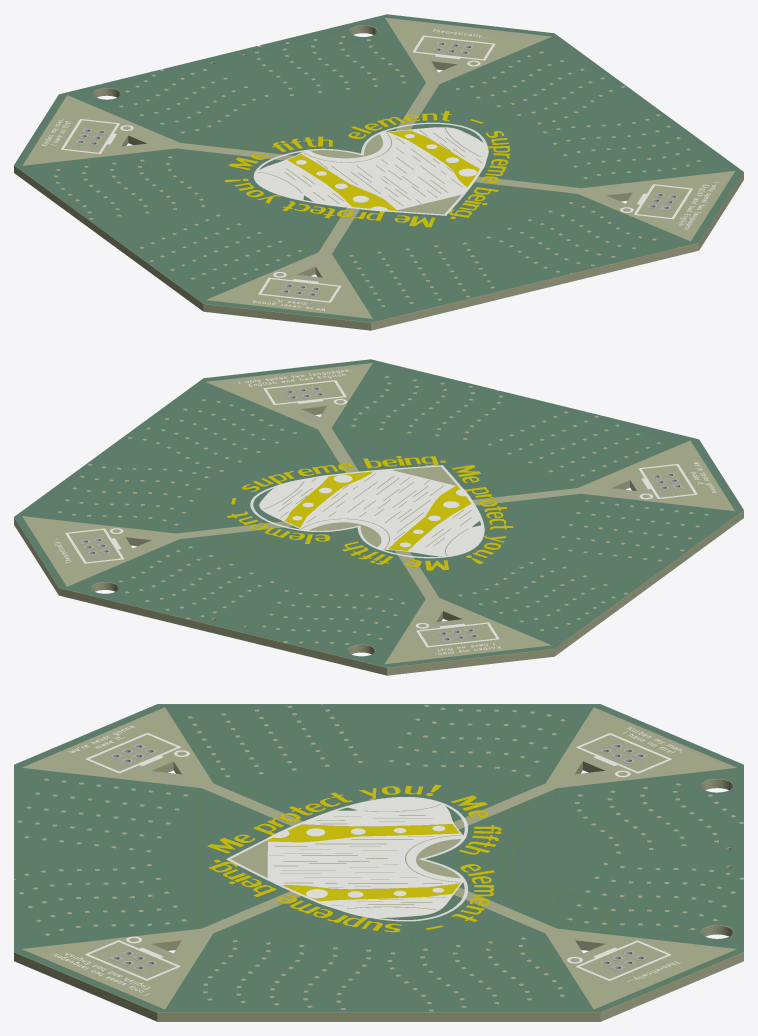
Rendered from fifth-element-stones-badge-def-con-27.glb.
The picture shows the model from 3 angles, top to bottom: view 1: azimuth 30°, elevation 25°; view 2: azimuth 150°, elevation 25°; view 3: azimuth 270°, elevation 25°; orthographic projection. The views are drawn at different scales.
Parts seen in each view (by area): view 1: =>[0:1:1:9], =>[0:1:1:7], =>[0:1:1:5], =>[0:1:1:2]; view 2: =>[0:1:1:9], =>[0:1:1:7], =>[0:1:1:5], =>[0:1:1:2]; view 3: =>[0:1:1:9], =>[0:1:1:7], =>[0:1:1:5], =>[0:1:1:2].
Boxes of the visible parts, x1,y1,x2,y2 form: =>[0:1:1:9]: [14, 15, 743, 330]; =>[0:1:1:7]: [14, 14, 743, 330]; =>[0:1:1:5]: [41, 29, 719, 311]; =>[0:1:1:2]: [76, 42, 677, 296]; =>[0:1:1:9]: [14, 360, 743, 675]; =>[0:1:1:7]: [14, 359, 743, 675]; =>[0:1:1:5]: [55, 369, 716, 654]; =>[0:1:1:2]: [79, 386, 683, 641]; =>[0:1:1:9]: [14, 704, 743, 1021]; =>[0:1:1:7]: [14, 704, 743, 1021]; =>[0:1:1:5]: [51, 726, 681, 995]; =>[0:1:1:2]: [109, 736, 677, 970].
Size of the model in its own units: 0.1143 by 0.00166 by 0.1143.
Materials: 4 (4 with a texture image).
